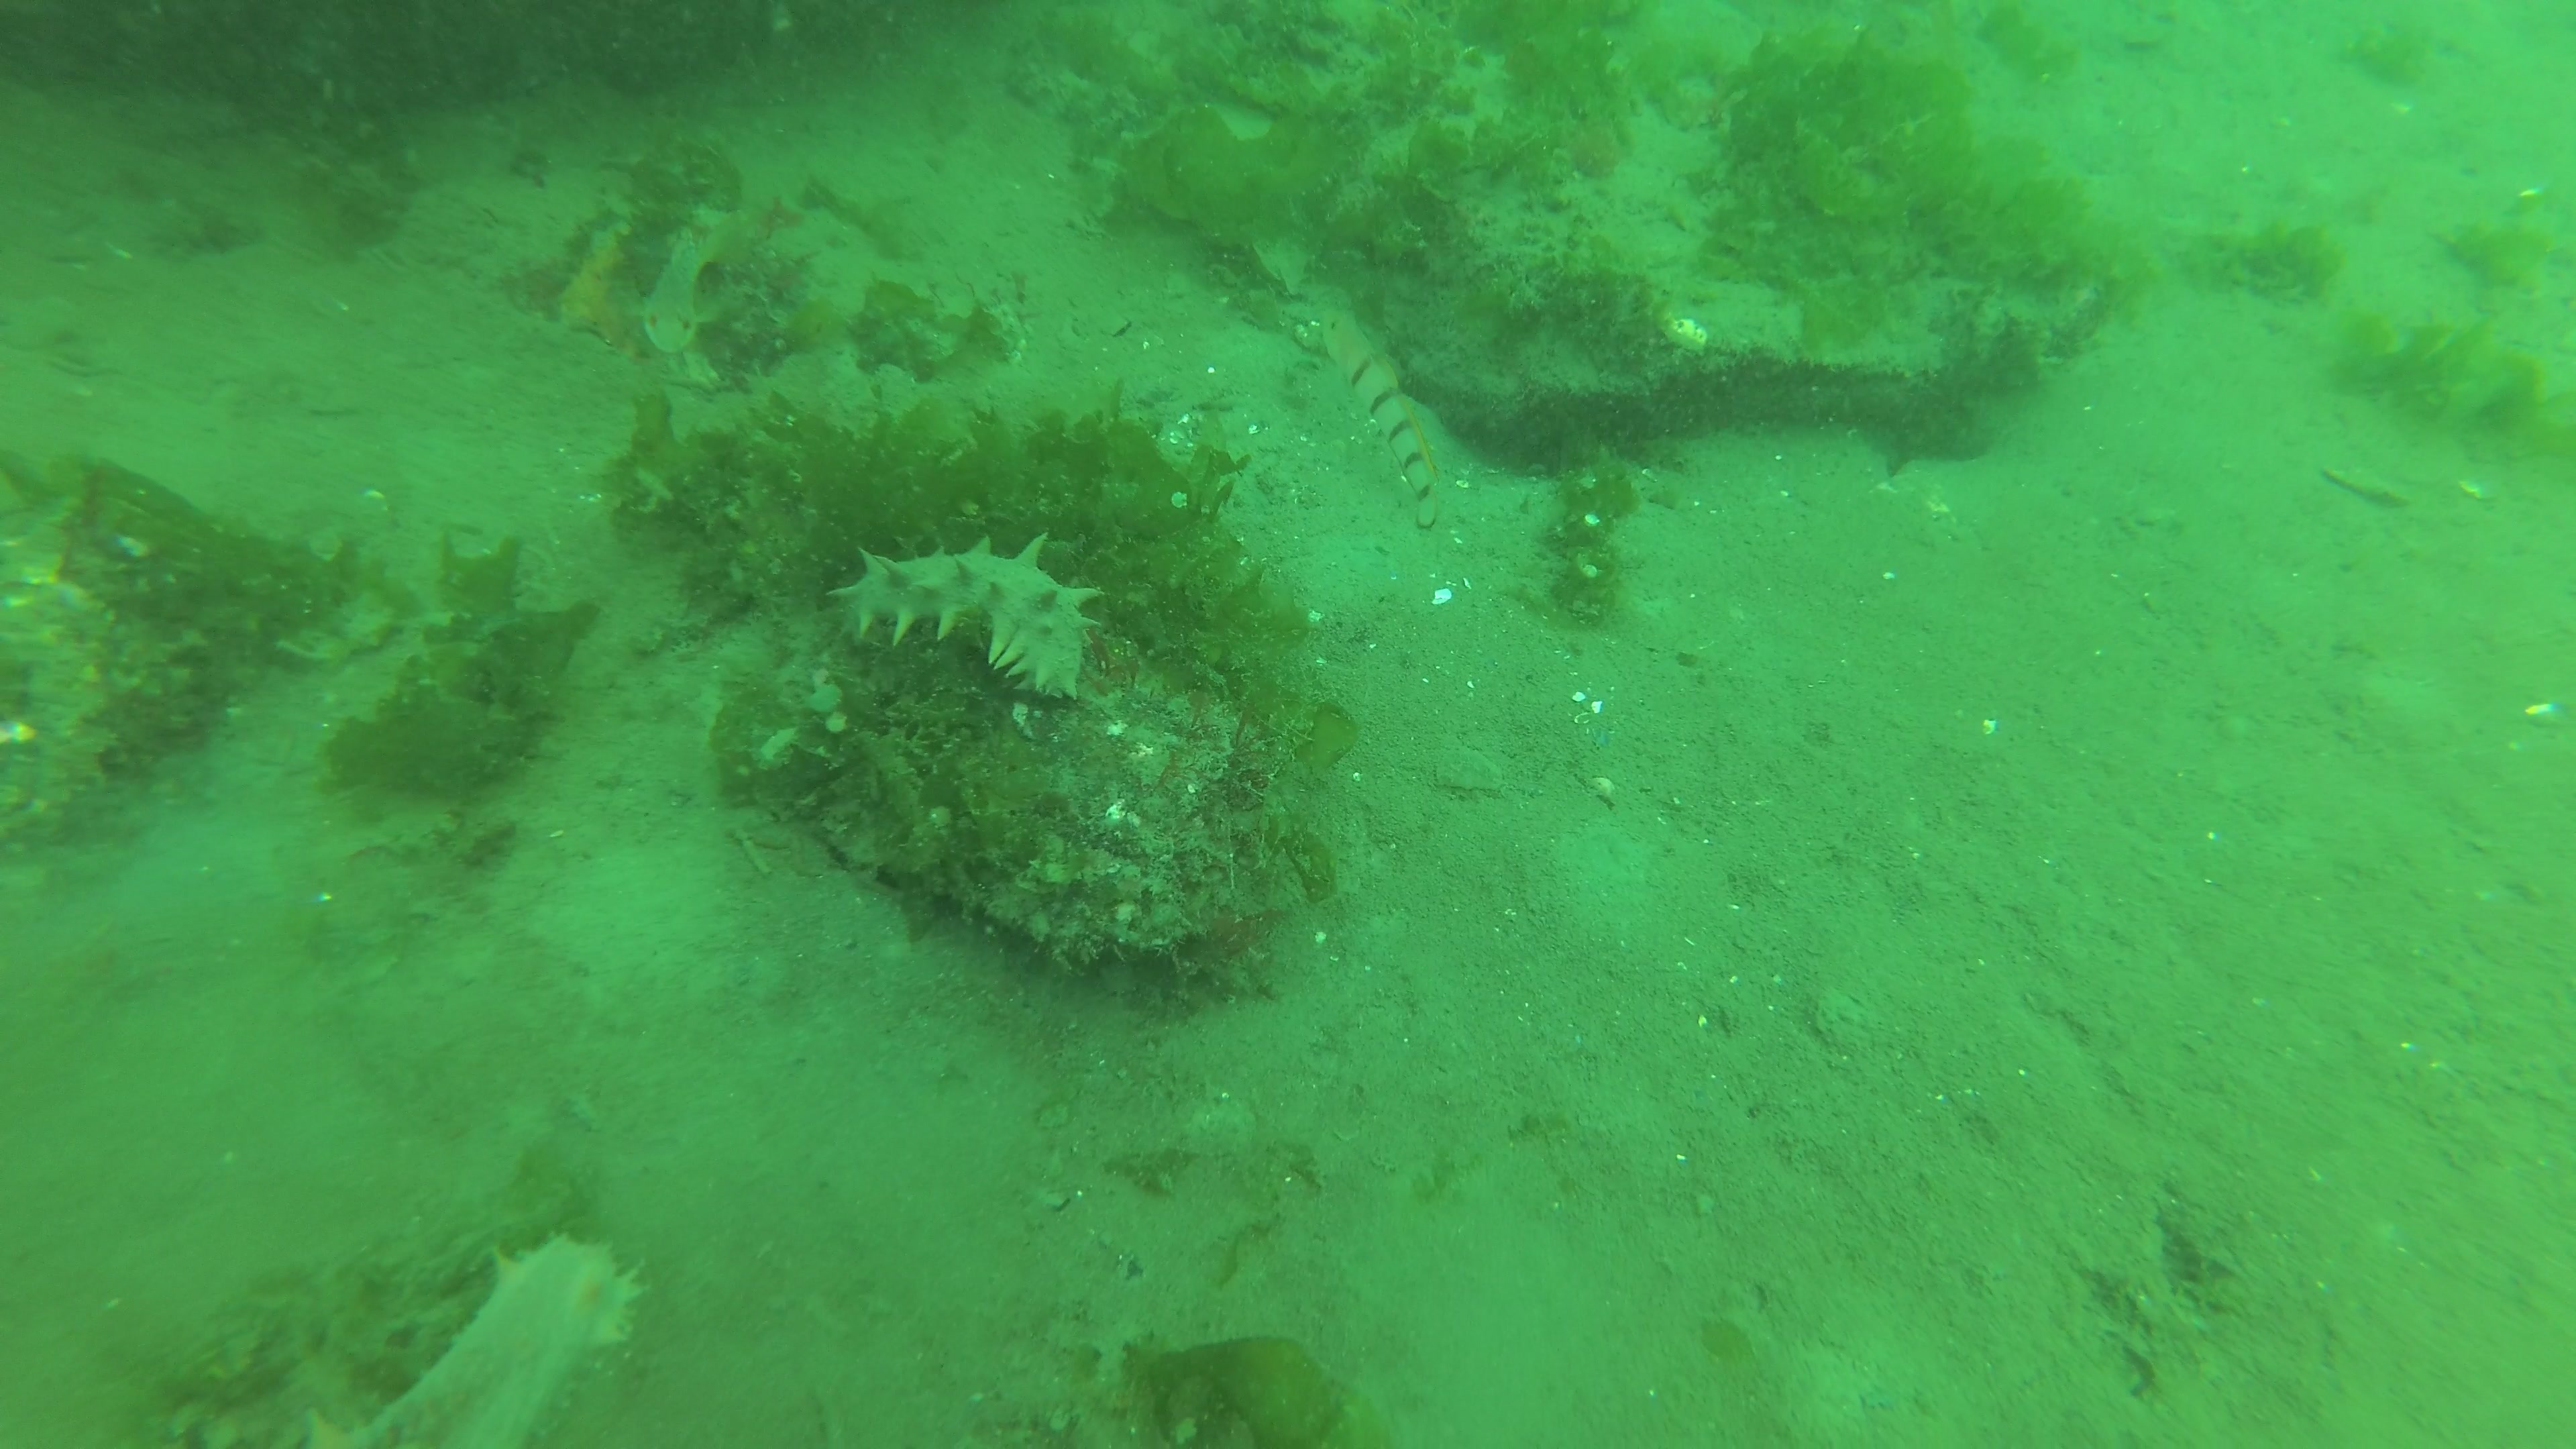holothurian: (347, 1228, 651, 1449), (824, 529, 1108, 704)
